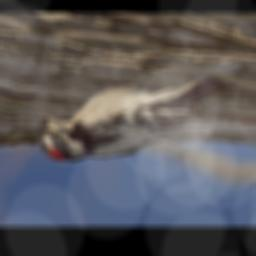Woodpecker: (27, 52, 234, 186)
